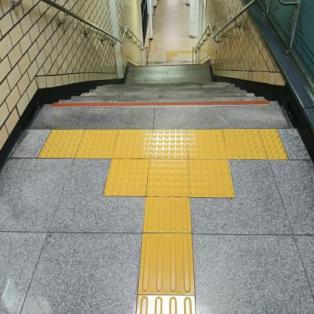Podoctatil: (34, 124, 294, 313)
